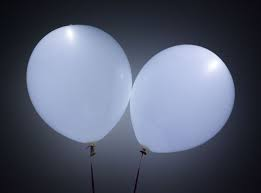Balloon: (26, 24, 133, 145), (131, 44, 235, 153)
